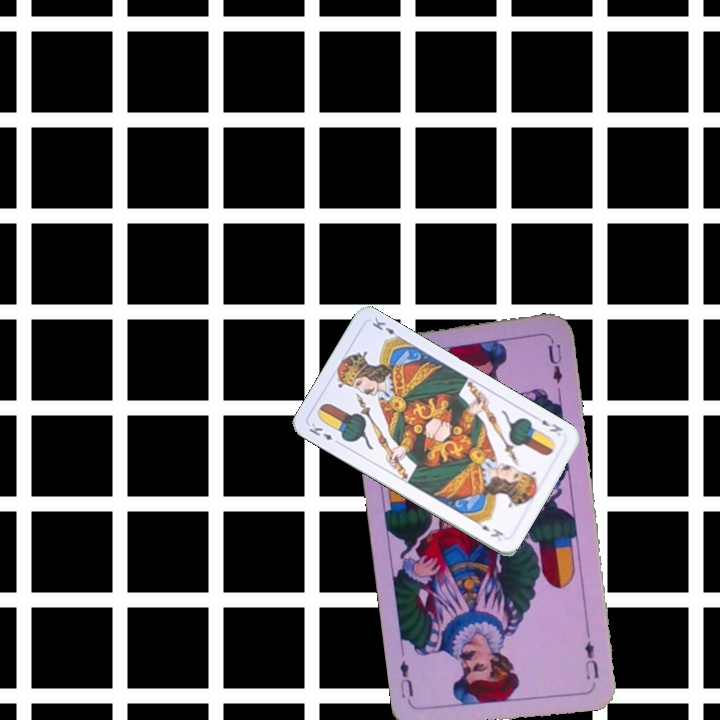EK: (305, 419, 343, 447), (538, 416, 565, 435)
EU: (581, 625, 602, 682)
